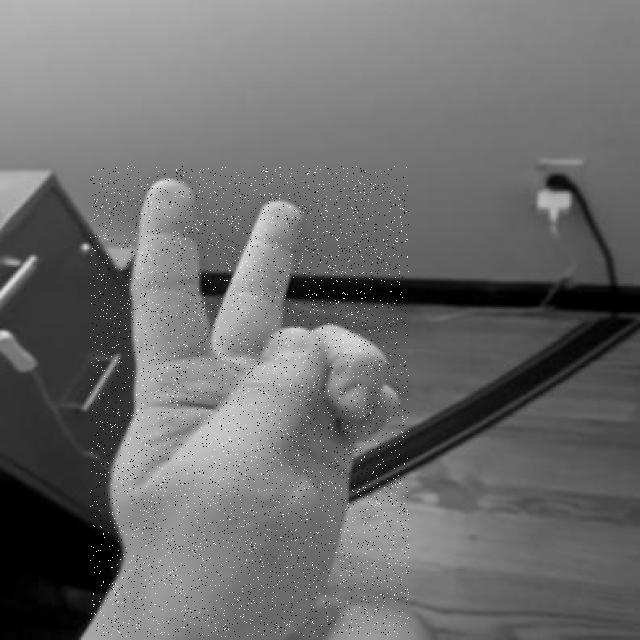K: (90, 166, 409, 637)
